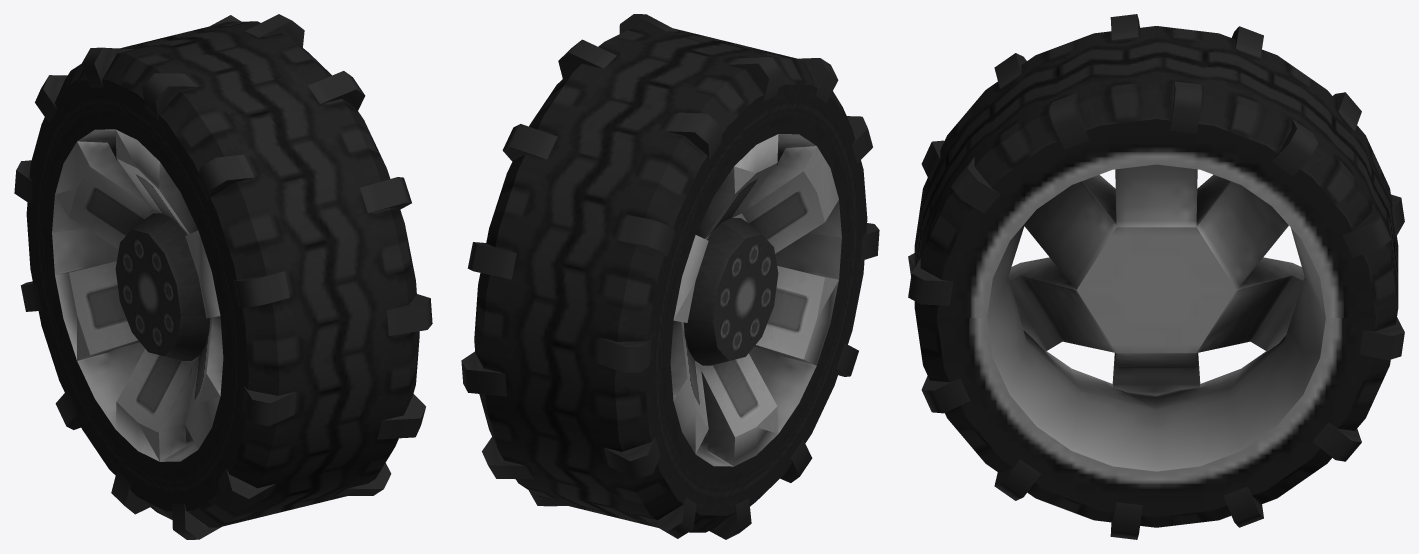
Rendered from Wheel5.fbx.
3 views of the same model, side by side, from view 1: azimuth 30°, elevation 25°; view 2: azimuth 150°, elevation 25°; view 3: azimuth 270°, elevation 25° (orthographic).
Parts seen in each view (by area): view 1: Tire, Metal; view 2: Tire, Metal; view 3: Tire, Metal.
Part boxes in pixels (x1,y1,x2,y2): Tire: (14,14,432,539); Metal: (52,129,223,461); Tire: (461,14,879,539); Metal: (670,134,841,466); Tire: (908,14,1404,539); Metal: (987,164,1325,471).
Bounding box in the file's own units: 36.68 × 88.74 × 88.74.
